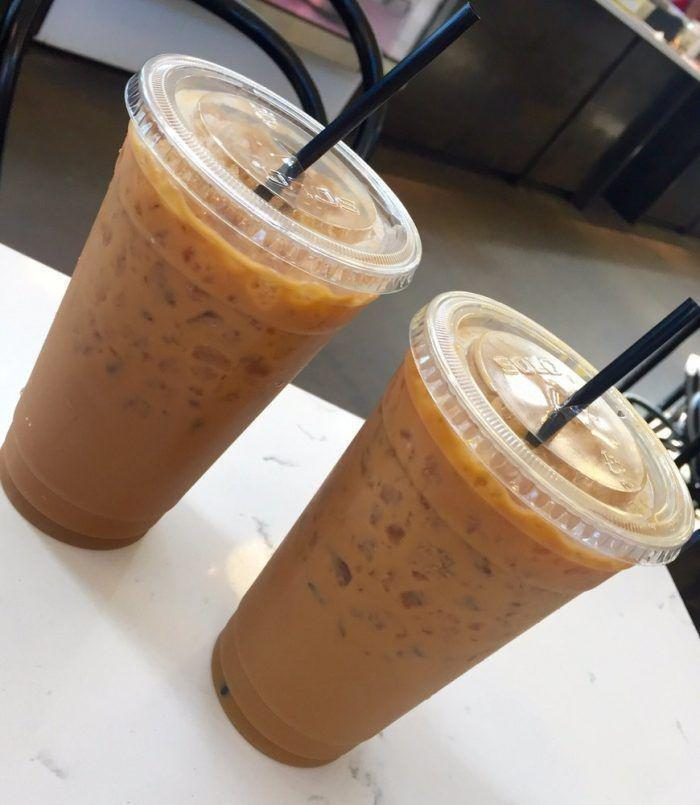cup-disposable: (209, 287, 695, 770), (2, 55, 425, 554)
